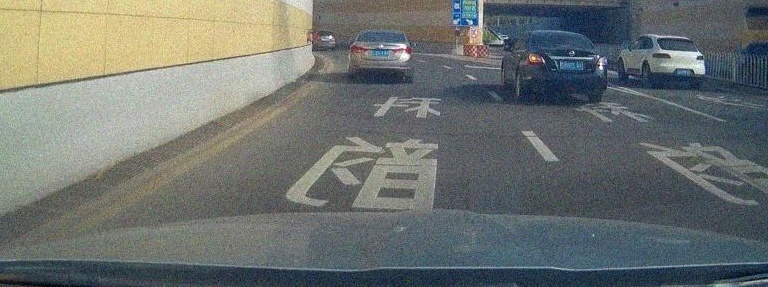L_light: (528, 53, 546, 66), (350, 43, 368, 53), (652, 52, 671, 58)
R_light: (393, 45, 412, 54), (594, 54, 606, 66), (696, 54, 704, 60)
T_light: (553, 34, 567, 37), (377, 32, 390, 35), (674, 39, 683, 42)
day-left: (526, 30, 607, 103)
day-no: (348, 29, 413, 81), (649, 33, 705, 88)
